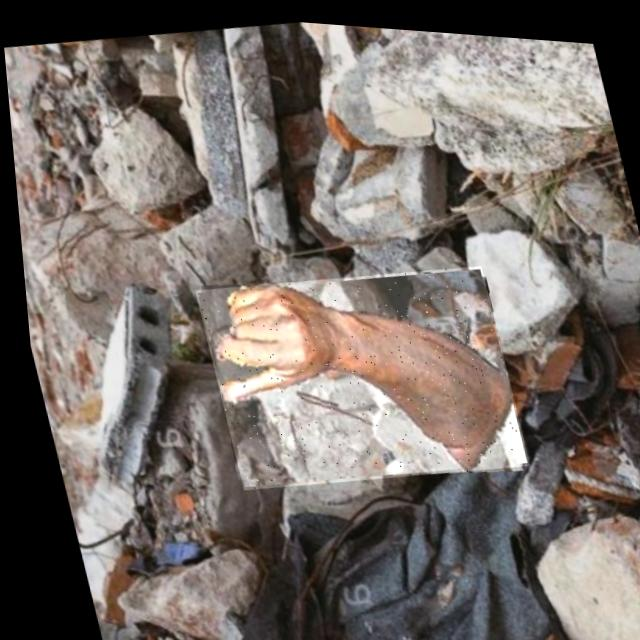Person in Rubble: (186, 240, 525, 503)
